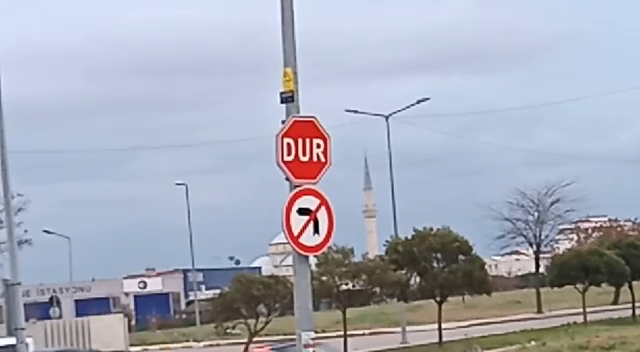no_left: (278, 184, 339, 258)
stop: (272, 112, 334, 186)
